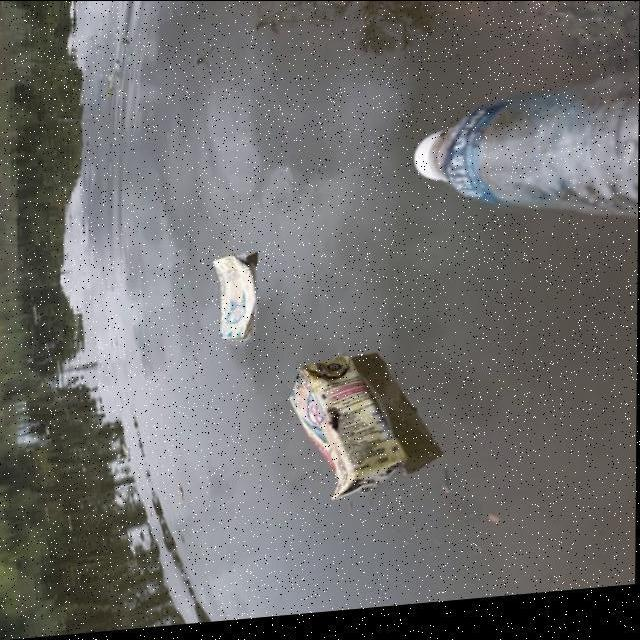Bottle: (402, 74, 640, 221)
Box: (286, 352, 414, 504)
Waste: (205, 250, 268, 346)
